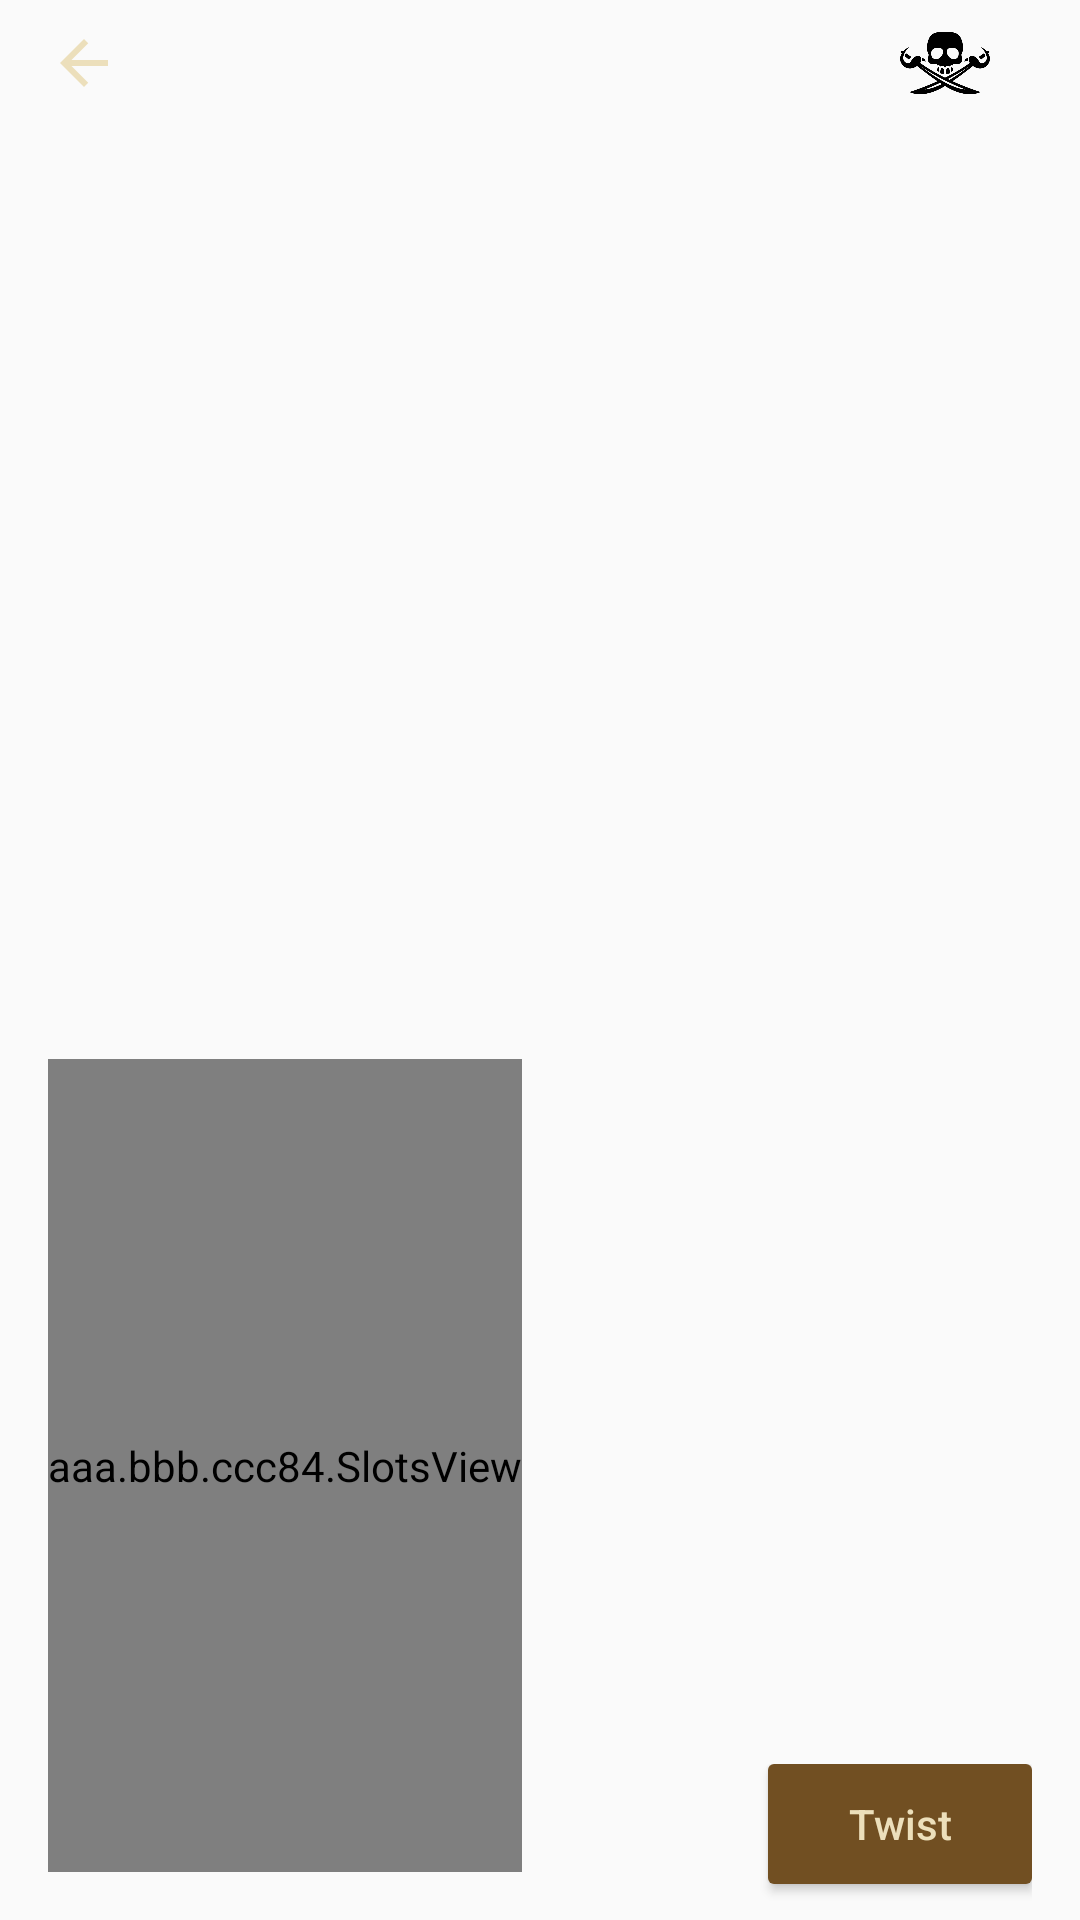

Screen size 1080 x 1920. Icon name, then its center in pixels as (x,y):
arrow back: (84,63)
